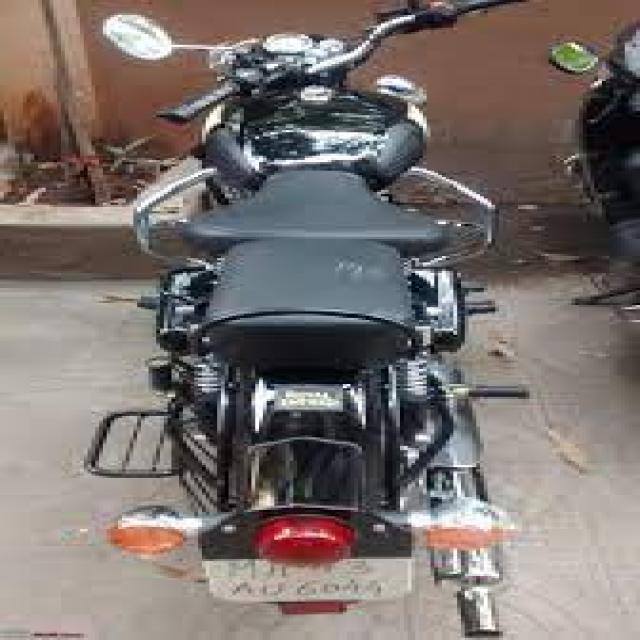license_plate: (200, 562, 410, 608)
